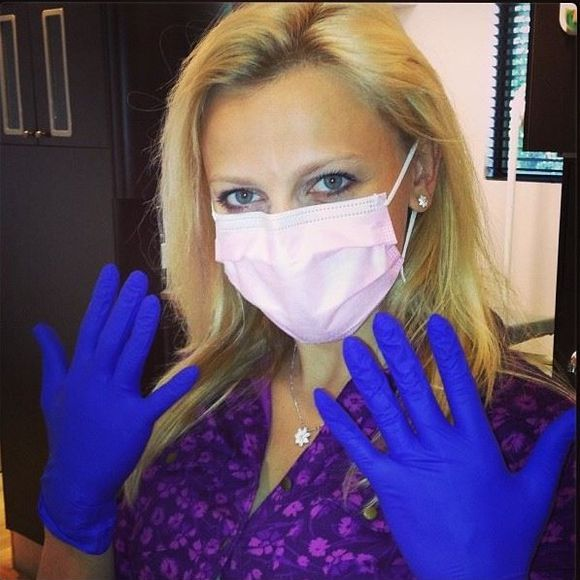face_mask: (212, 72, 404, 332)
